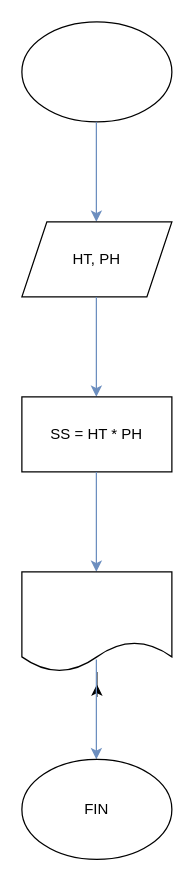
Image size: 194x881. Some labels were removed from this diagram. The centre of each missing label's shape, as x and y in pixels:
INICIO: point (96, 71)
SS: point (96, 621)
